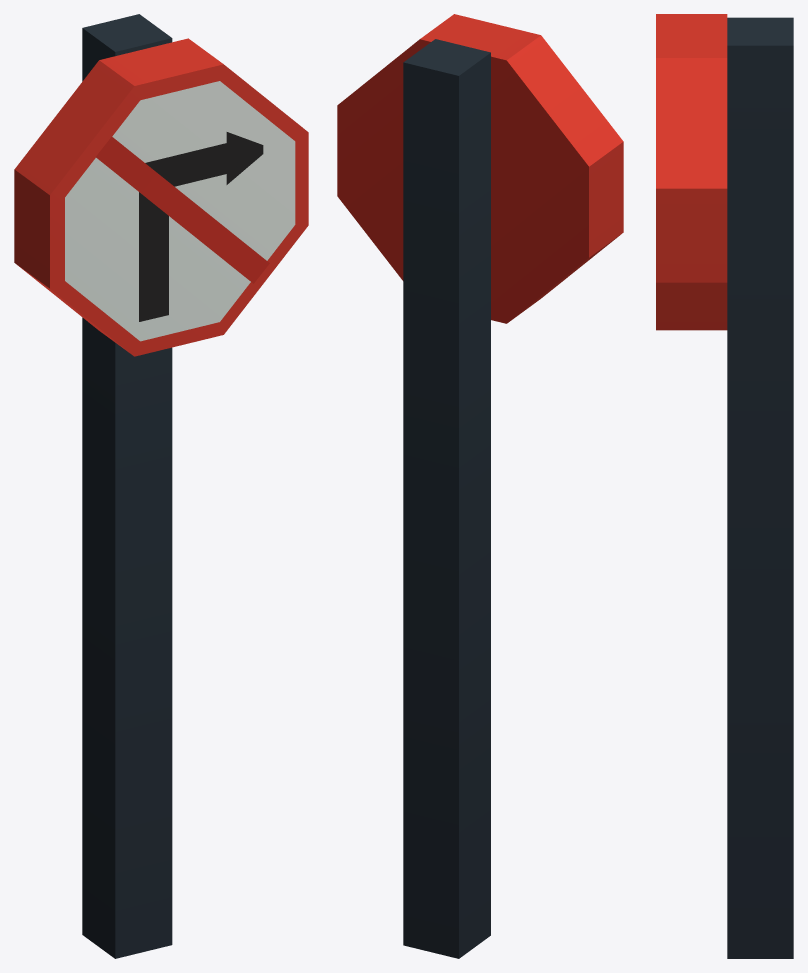
Rendered from Road_sign_6.fbx.
3 renders of one model, left to right at view 1: azimuth 30°, elevation 25°; view 2: azimuth 150°, elevation 25°; view 3: azimuth 270°, elevation 25°, orthographic. The views are drawn at different scales.
Visible parts, largest first — view 1: Road_sign_6; view 2: Road_sign_6; view 3: Road_sign_6.
Boxes of the visible parts, bbox=[...] form: Road_sign_6: bbox=[14, 14, 308, 958]; Road_sign_6: bbox=[337, 14, 623, 958]; Road_sign_6: bbox=[656, 14, 793, 958].
Size of the model in its own units: 107 by 359 by 50.32.
